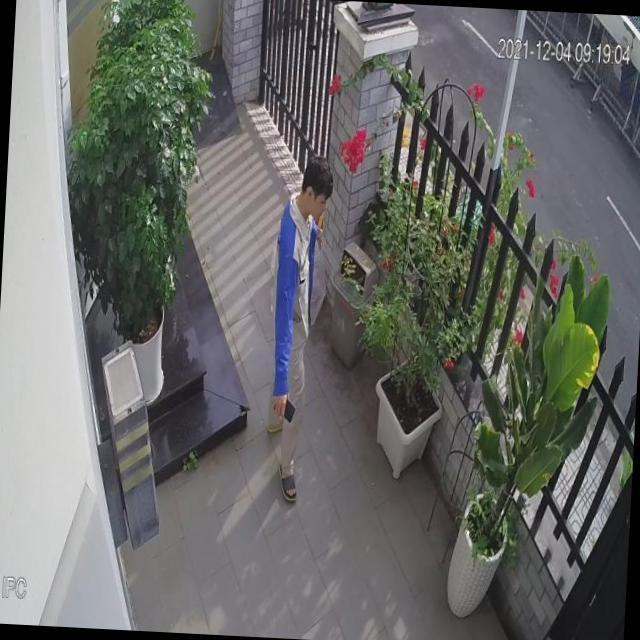person: (262, 152, 338, 504)
